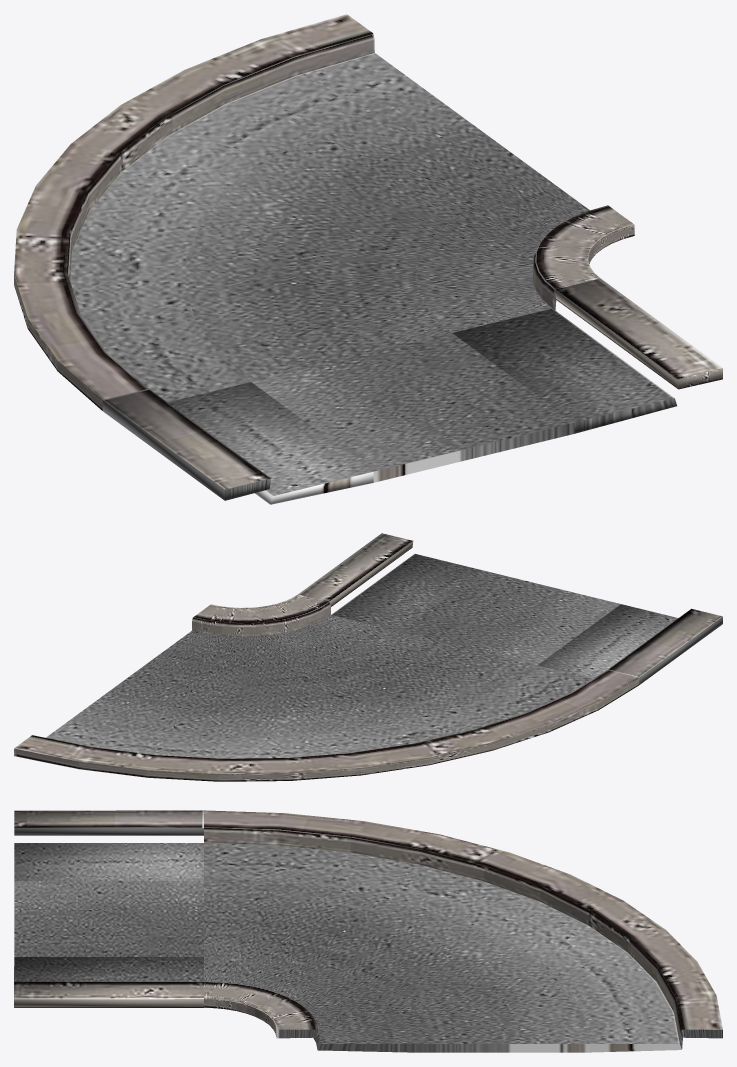
File: callecurva.fbx
3 views of the same model, one above another, from view 1: azimuth 30°, elevation 25°; view 2: azimuth 150°, elevation 25°; view 3: azimuth 270°, elevation 25° (orthographic). The views are drawn at different scales.
Visible parts, largest first — view 1: 4in 2.011; view 2: 4in 2.011; view 3: 4in 2.011.
Boxes of the visible parts, x1,y1,x2,y2 form: 4in 2.011: (14,14,722,504); 4in 2.011: (14,533,722,781); 4in 2.011: (14,810,722,1052).
Size of the model in its own units: 591 by 28.91 by 807.
1 material, 1 textured.
